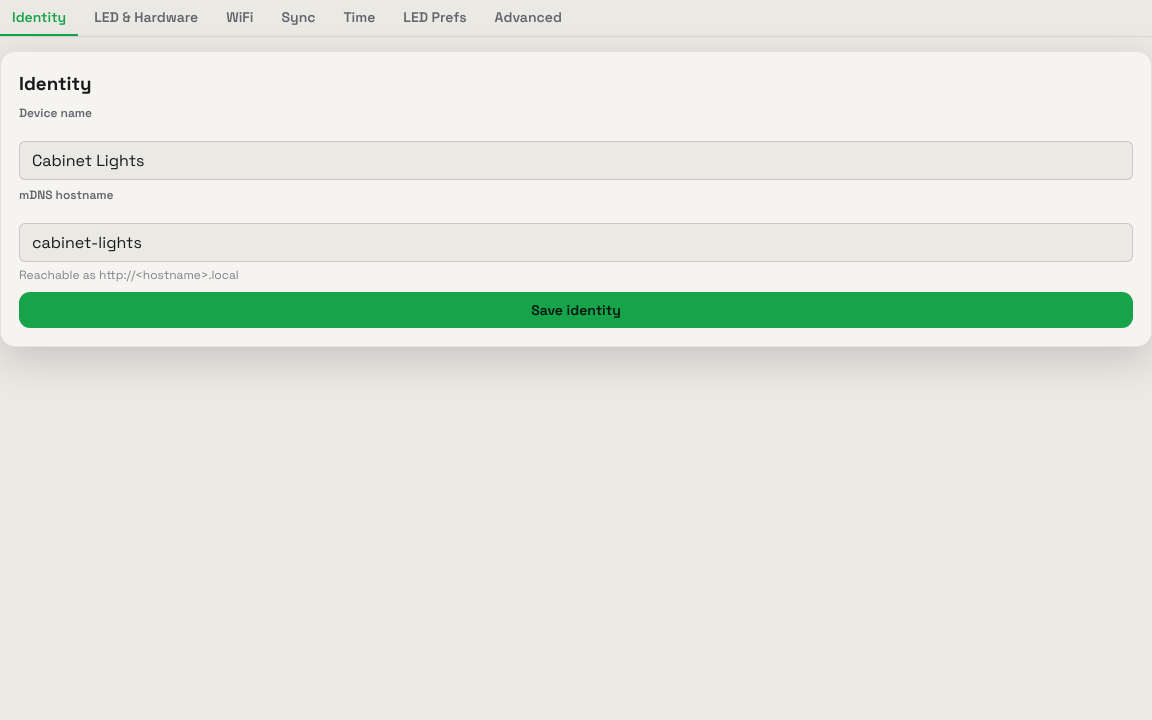
Test: ConfigTab › confirm applies the same patch and toasts success (no reboot needed)
This screenshot has width=1152, height=720.
Step 1. Replace the text in the field labelled "Device name" with "Kitchen" → (576, 161), box [19,141,1133,180]
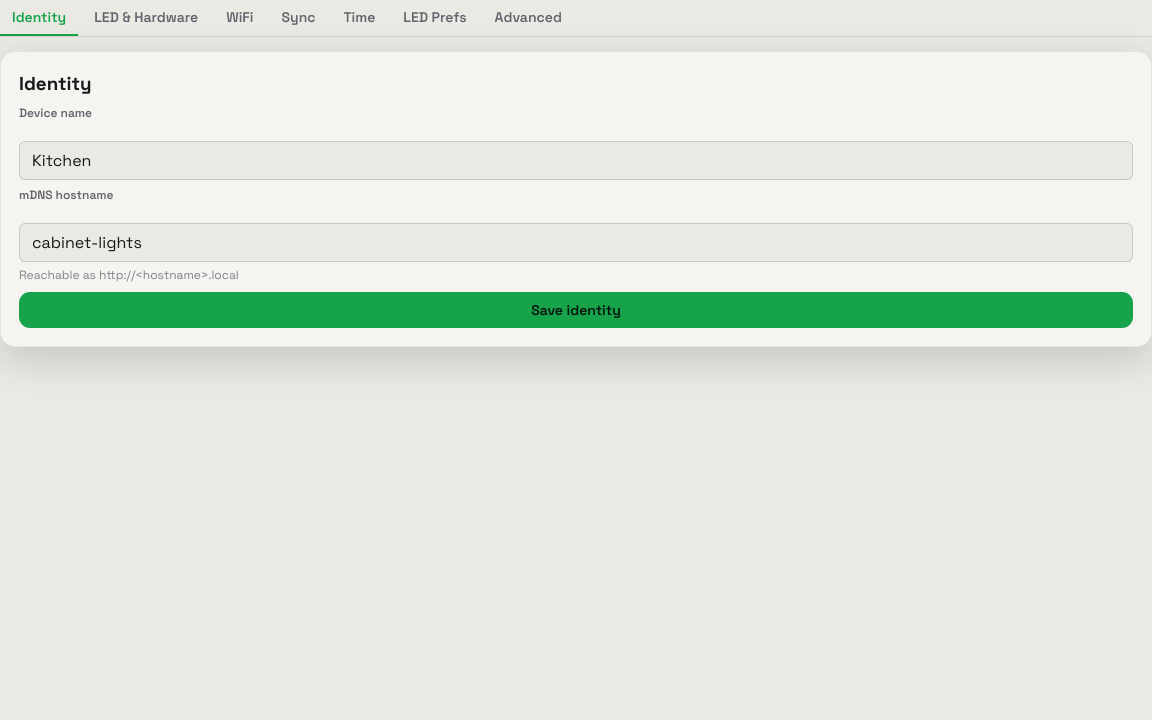
Step 2. Click the button "Save identity" → (576, 310), box [19,292,1133,328]
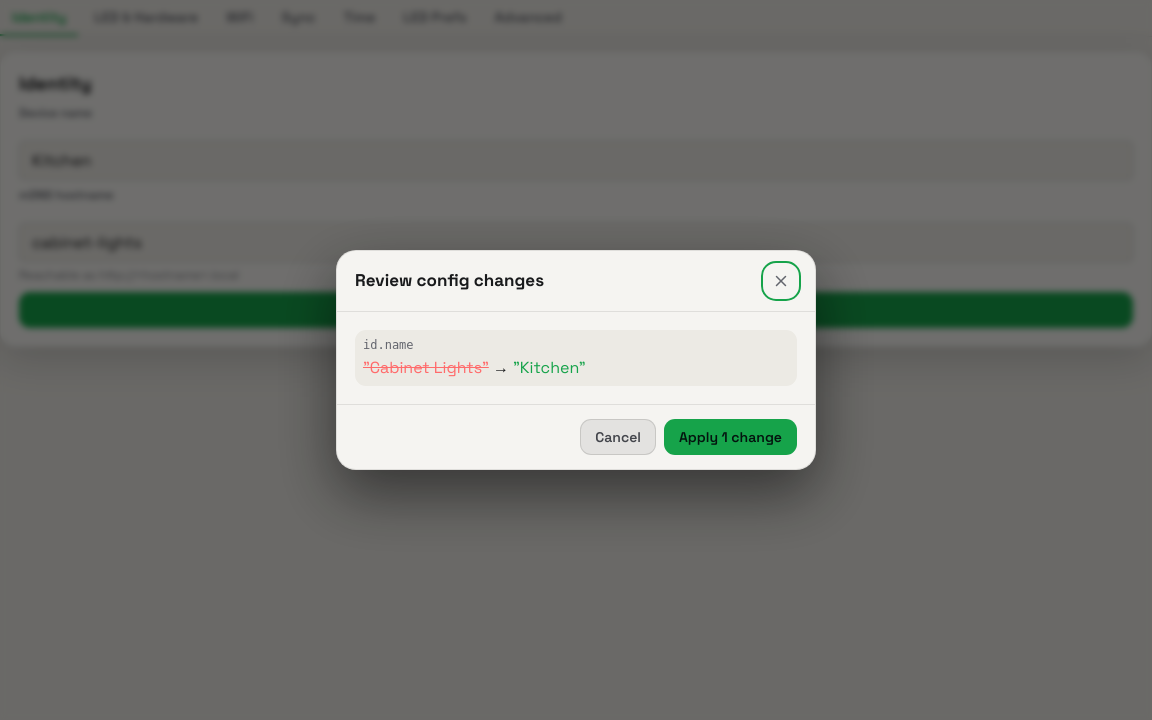
Step 3. Click the button "Apply 1 change" → (730, 437), box [664,419,797,455]
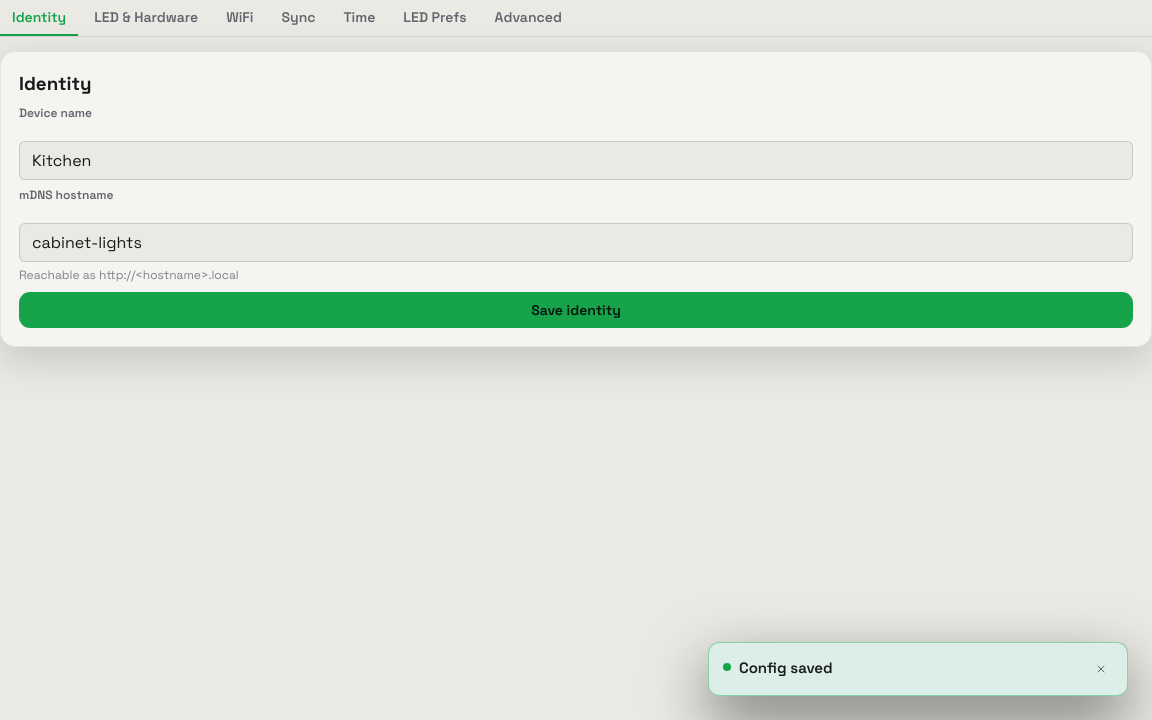
Expected: the text "Config saved" is shown, [739,658,833,677]
